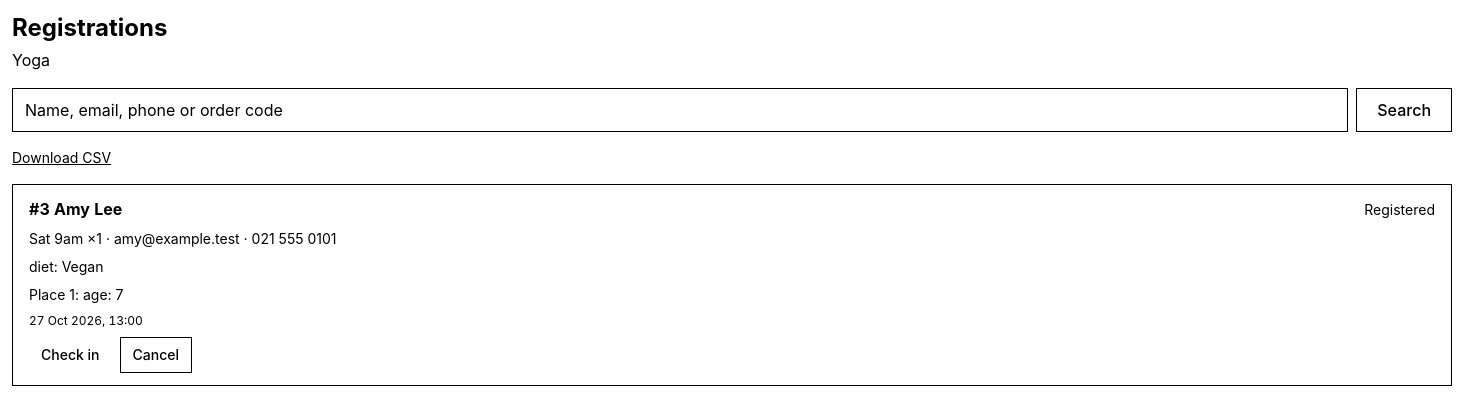
Test: OrderList (merchant registrations) › searches on the server
Type "chen" into the field labelled "Name, email, phone or order code" at point(680, 110), box [12,88,1348,132]
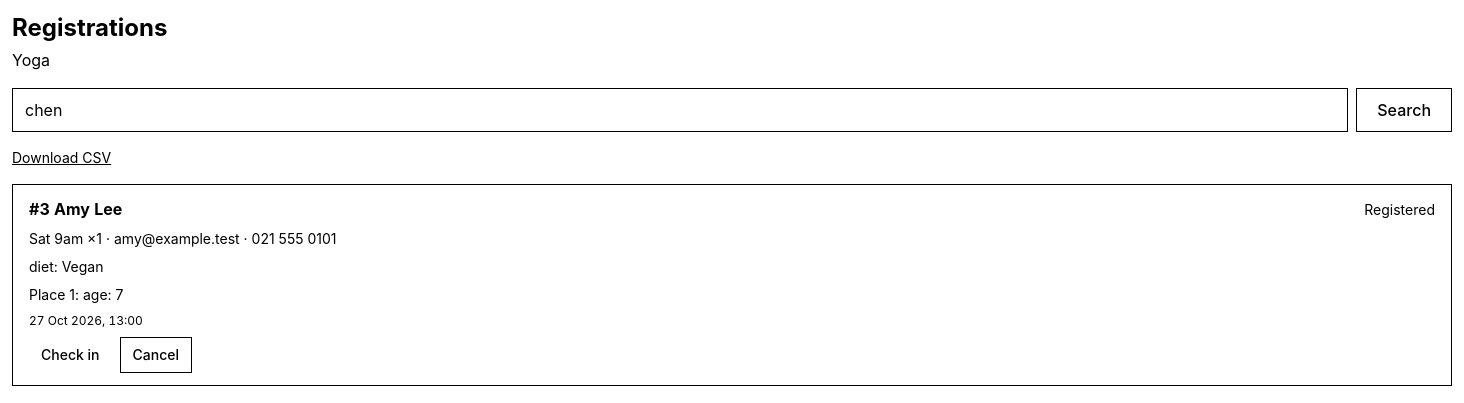
Click the button "Search" at point(1404, 110), box [1356,88,1452,132]
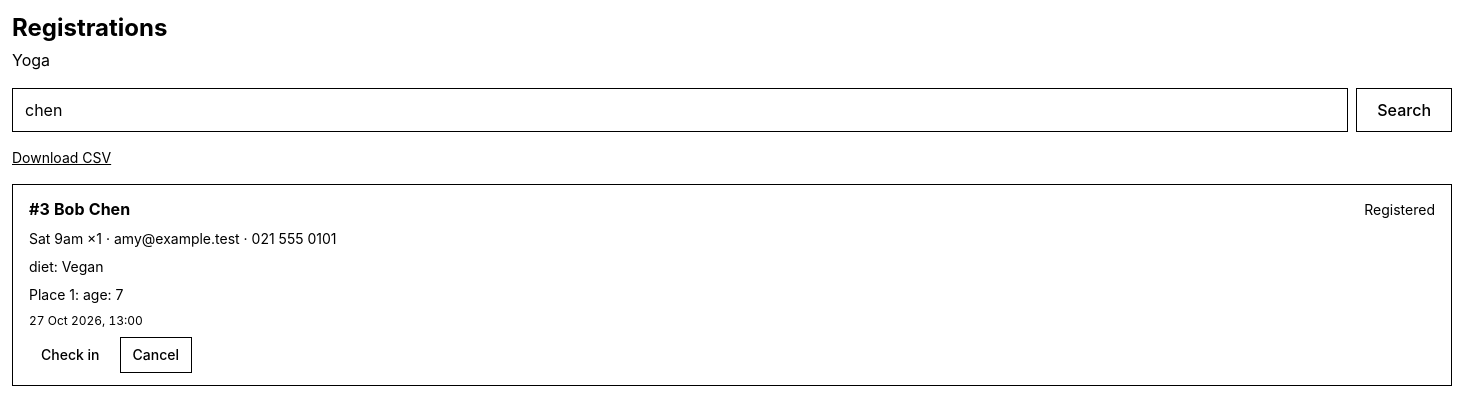
Expected: the list item shows "Bob Chen", [54,199,130,219]
